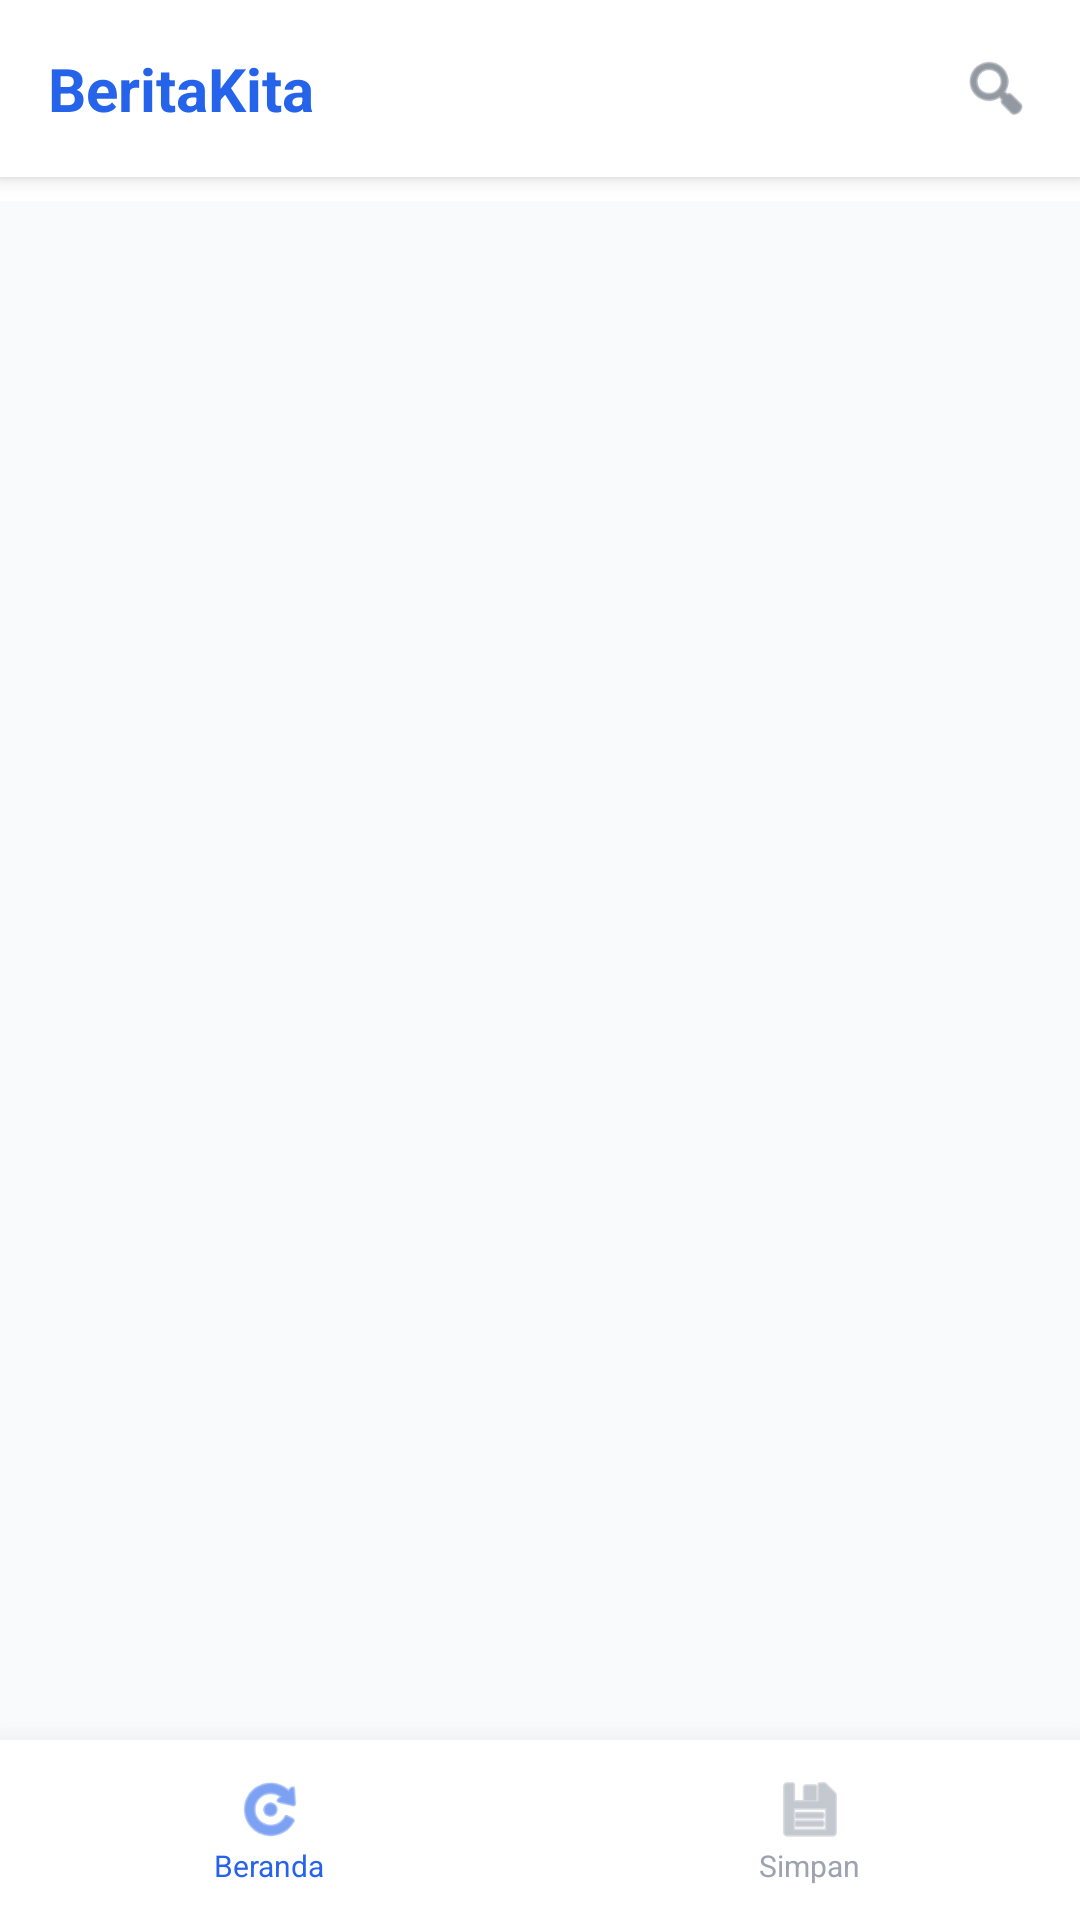

Icons on this 1080w x 1920h Android screen, each with its box as (x1, y1, x2, y2):
rotate: (244, 1782, 296, 1836)
search: (969, 62, 1023, 115)
